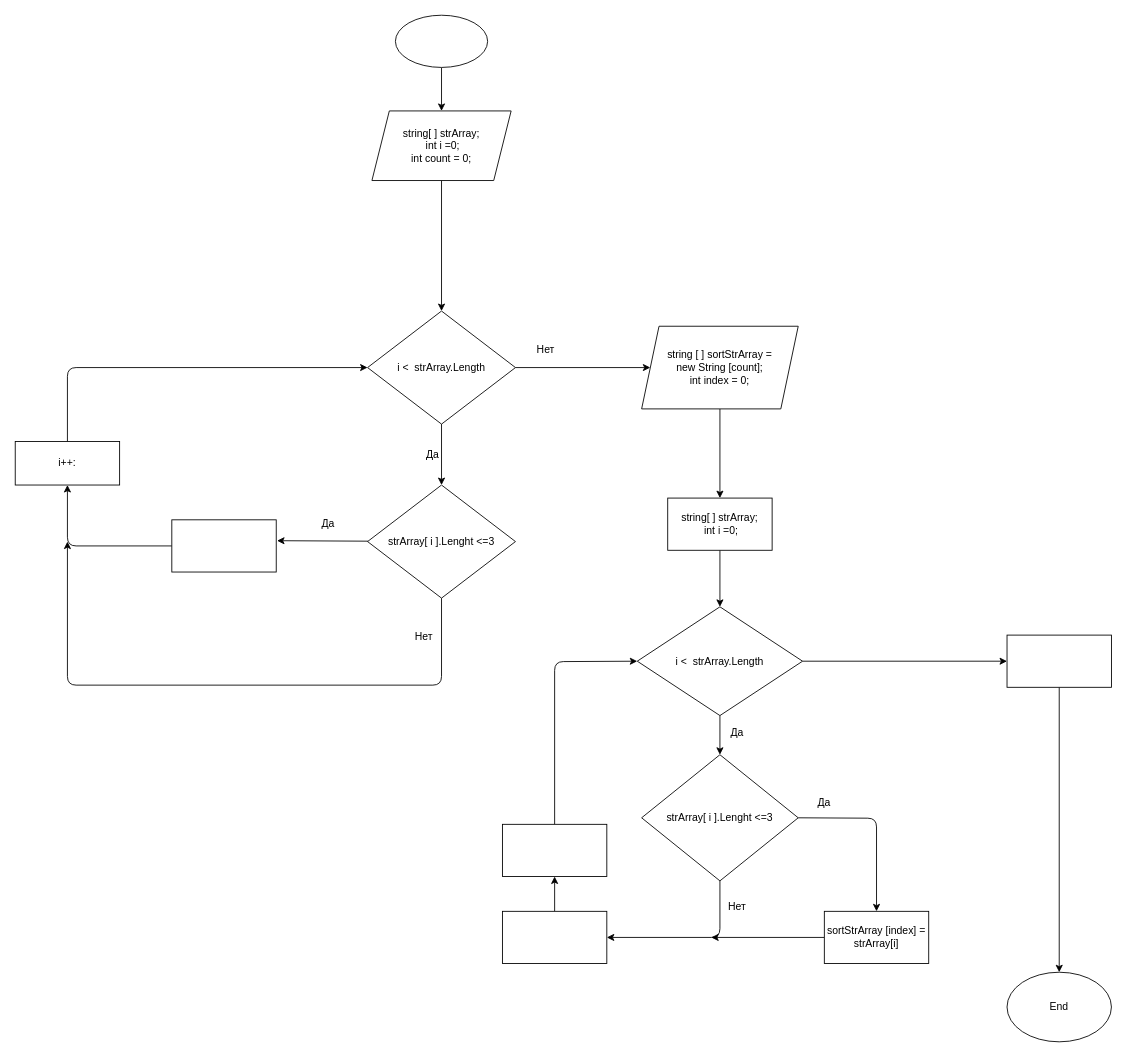
Some shapes in this 1127 by 1057 pixel diagram are drawn without their labels. The shapes that lost their labels are listed below. From the top down, each one's centre as x and y in pixels, then its label:
At point 441,40: "Start".
At point 223,545: "count++;".
At point 1058,660: "Print string [ ] sortStrArray".
At point 554,850: "i++;".
At point 554,937: "index++;".
